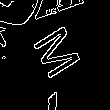M_NE: (31, 13, 89, 77)
